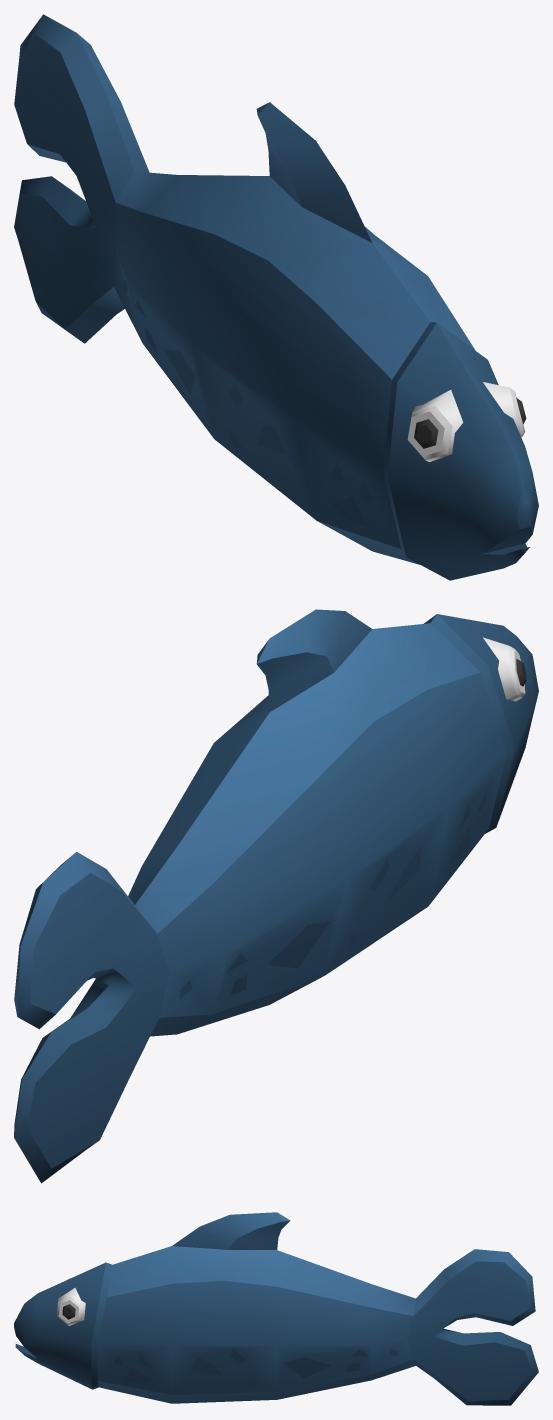
The model's file is Fish_1_D.glb.
The picture shows the model from 3 angles, top to bottom: view 1: azimuth 30°, elevation 25°; view 2: azimuth 150°, elevation 25°; view 3: azimuth 270°, elevation 25°; orthographic projection. The views are drawn at different scales.
Parts seen in each view (by area): view 1: Fish_1_D; view 2: Fish_1_D; view 3: Fish_1_D.
Part boxes in pixels (x1,y1,x2,y2): Fish_1_D: (14,14,538,580); Fish_1_D: (14,609,538,1183); Fish_1_D: (14,1212,538,1405).
Bounding box in the file's own units: 0.1032 × 0.2362 × 0.5807.
1 material, 1 textured.
